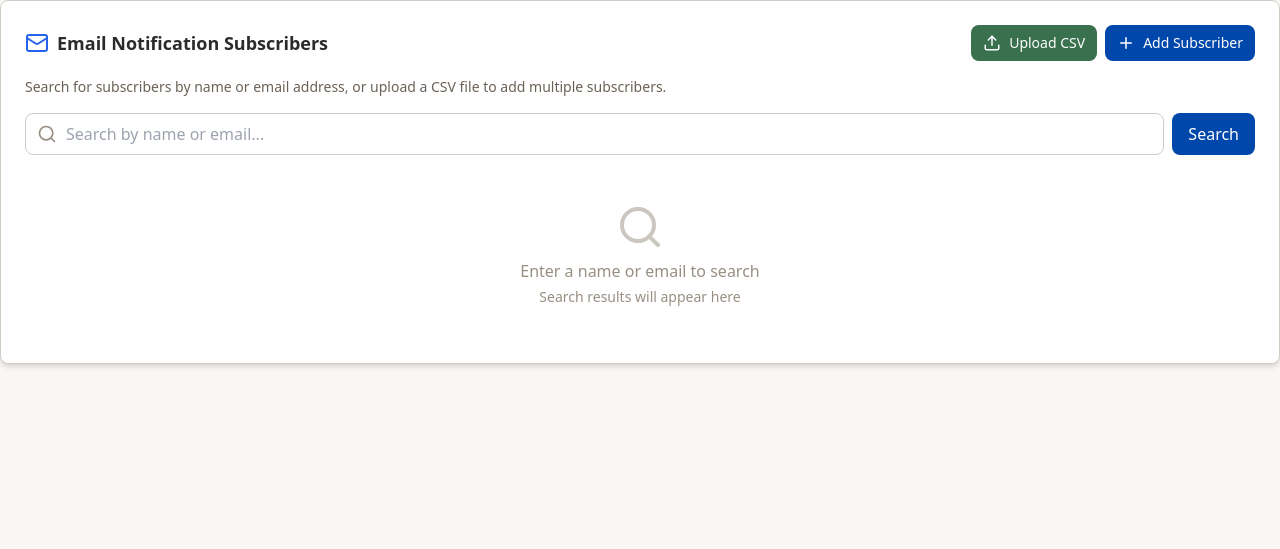
Test: EmailSubscribers Component › Add Subscriber Functionality › shows add form when Add Subscriber button is clicked
The image size is (1280, 549).
What coordinates should you click on to do the following:
click the button "Add Subscriber"
I would click on:
 (1180, 43)
Its box is [1105,25,1255,61].
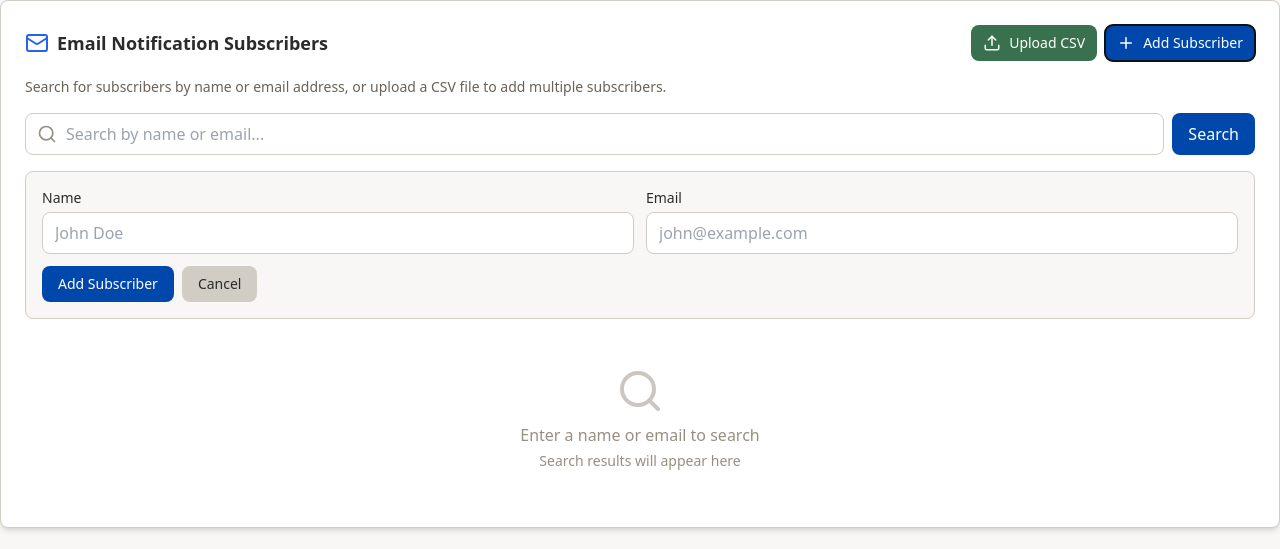
expect the field with placeholder "John Doe" is shown: met, box [42,212,634,254]
expect the field with placeholder "john@example.com" is shown: met, box [646,212,1238,254]
